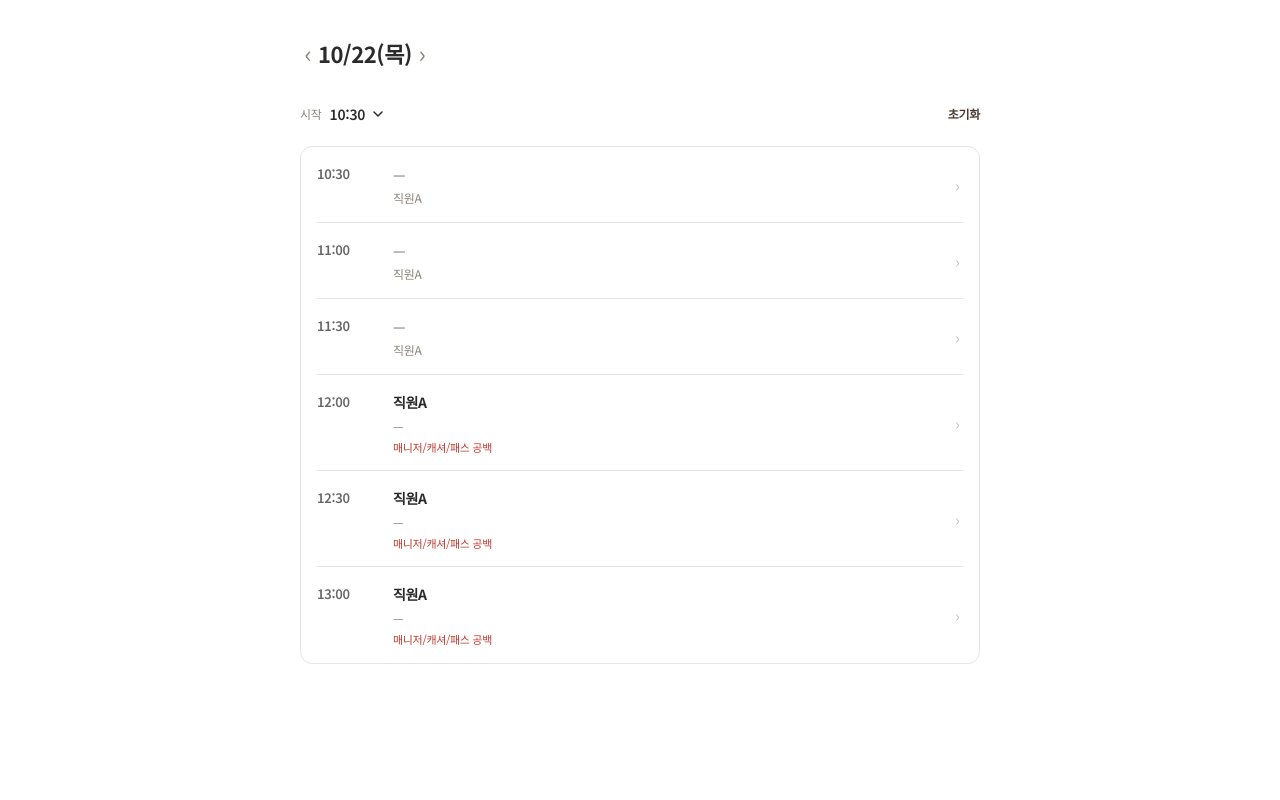
it: confirmed slot break selection › shows an empty list message when all employees are excluded
Click the button with aria-label "11:30 ~ 12:00 휴게 배치" at {"x": 333, "y": 326}, box [301,299,979,375]
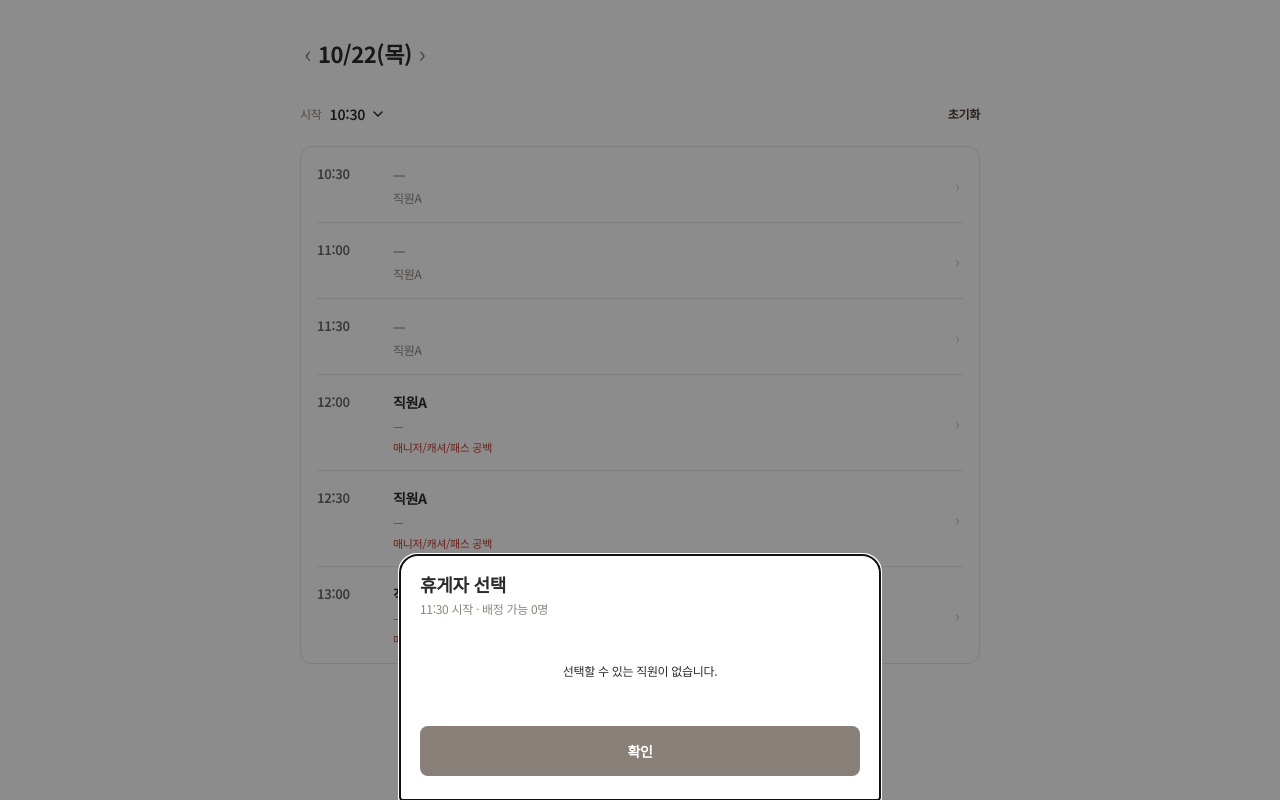
Check: the text "선택할 수 있는 직원이 없습니다." is shown, box [563,662,717,679]
Check: the button "확인" is disabled, box [420,726,860,776]
